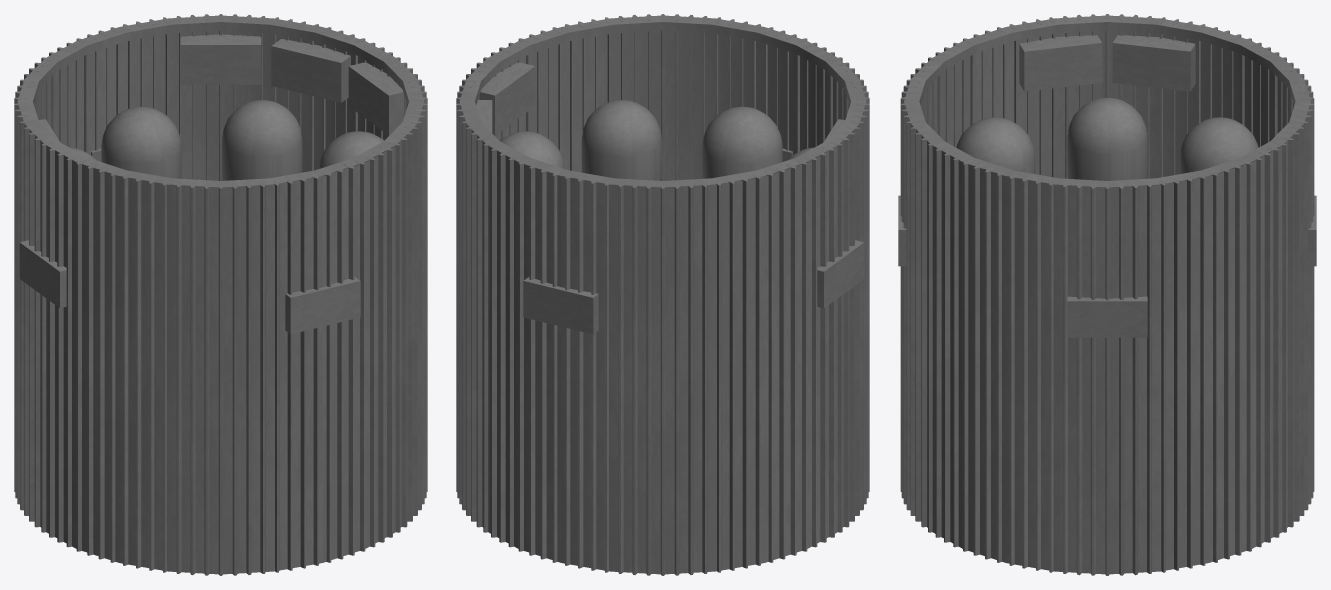
Rendered from ksprocket.fbx.
3 renders of one model, left to right at view 1: azimuth 30°, elevation 25°; view 2: azimuth 150°, elevation 25°; view 3: azimuth 270°, elevation 25°, orthographic.
Parts seen in each view (by area): view 1: tank.017; view 2: tank.017; view 3: tank.017.
Part boxes in pixels (x1,y1,x2,y2): tank.017: (14,14,427,575); tank.017: (456,14,869,575); tank.017: (898,14,1316,575).
Size of the model in its own units: 1039 by 1060 by 1039.
